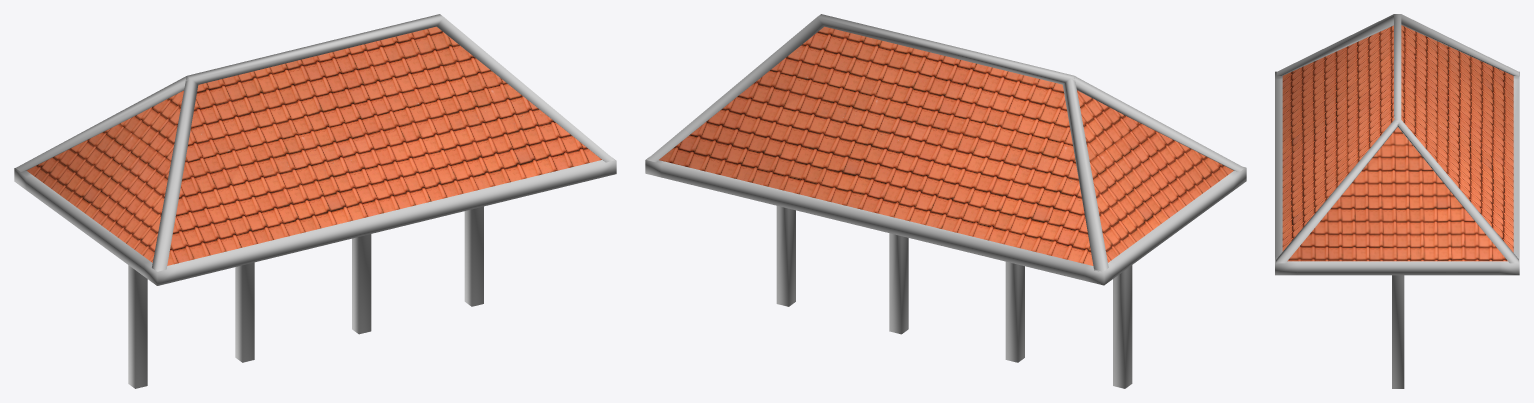
Rendered from shed.fbx.
3 views of the same model, side by side, from view 1: azimuth 30°, elevation 25°; view 2: azimuth 150°, elevation 25°; view 3: azimuth 270°, elevation 25° (orthographic). The views are drawn at different scales.
Visible parts, largest first — view 1: roof, platform2; view 2: roof, platform2; view 3: roof, platform2.
Part boxes in pixels (x1,y1,x2,y2): roof: [27, 26, 601, 265]; platform2: [14, 14, 616, 388]; roof: [659, 26, 1233, 265]; platform2: [645, 14, 1246, 388]; roof: [1282, 25, 1513, 261]; platform2: [1275, 14, 1519, 388].
Size of the model in its own units: 5.7 by 3.5 by 3.07.
